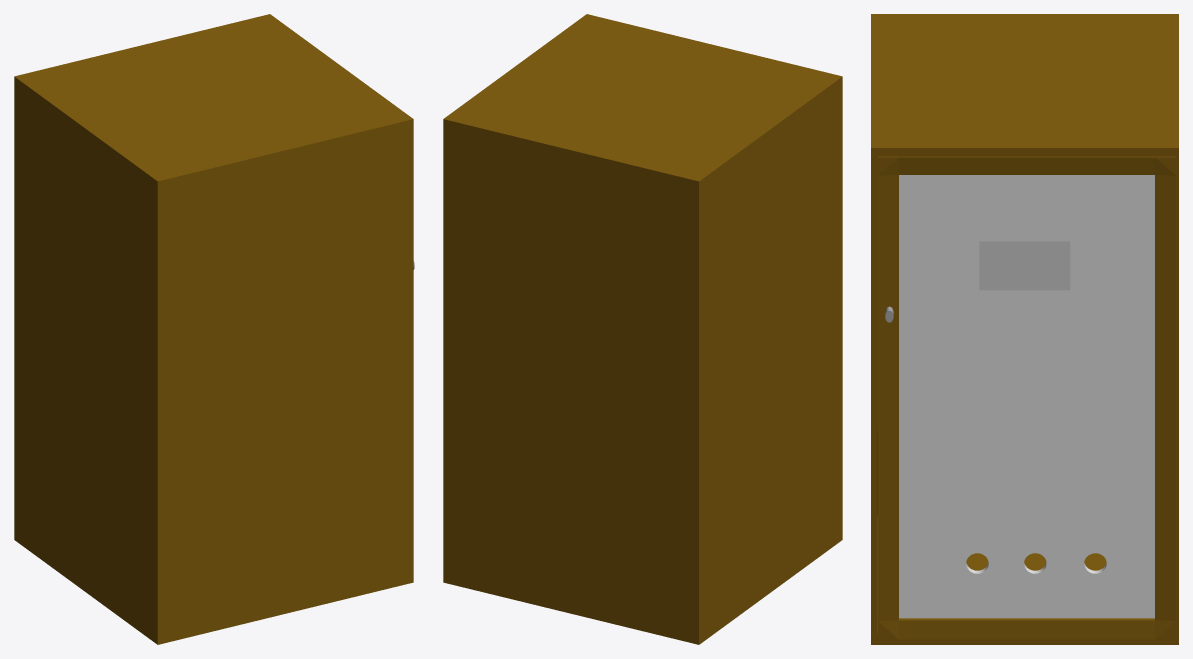
File: fire_rescue_box_visual.dae
The picture shows the model from 3 angles, left to right: view 1: azimuth 30°, elevation 25°; view 2: azimuth 150°, elevation 25°; view 3: azimuth 270°, elevation 25°; orthographic projection. The views are drawn at different scales.
Visible parts, largest first — view 1: fire_rescue_box; view 2: fire_rescue_box; view 3: fire_rescue_box.
Boxes of the visible parts, <box> form: fire_rescue_box: <box>14,14,414,644</box>; fire_rescue_box: <box>443,14,842,644</box>; fire_rescue_box: <box>871,14,1178,644</box>.
Size of the model in its own units: 2.37 by 2.24 by 3.99.
